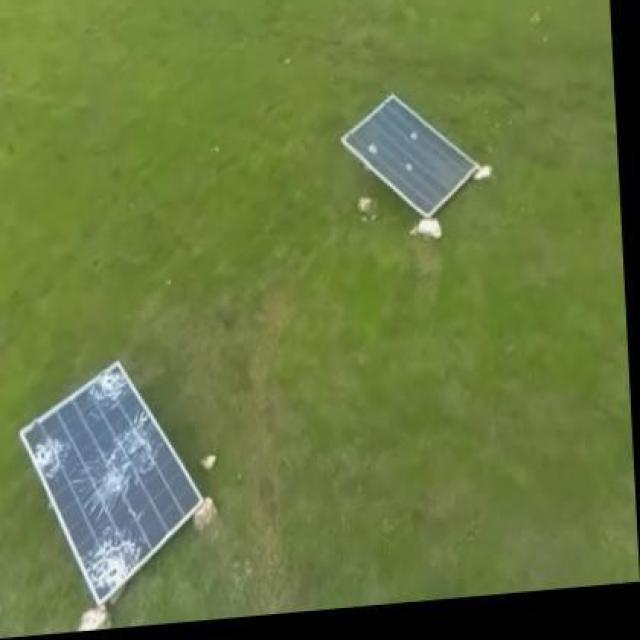cracked: (22, 356, 214, 604)
soiled: (336, 88, 482, 215)
